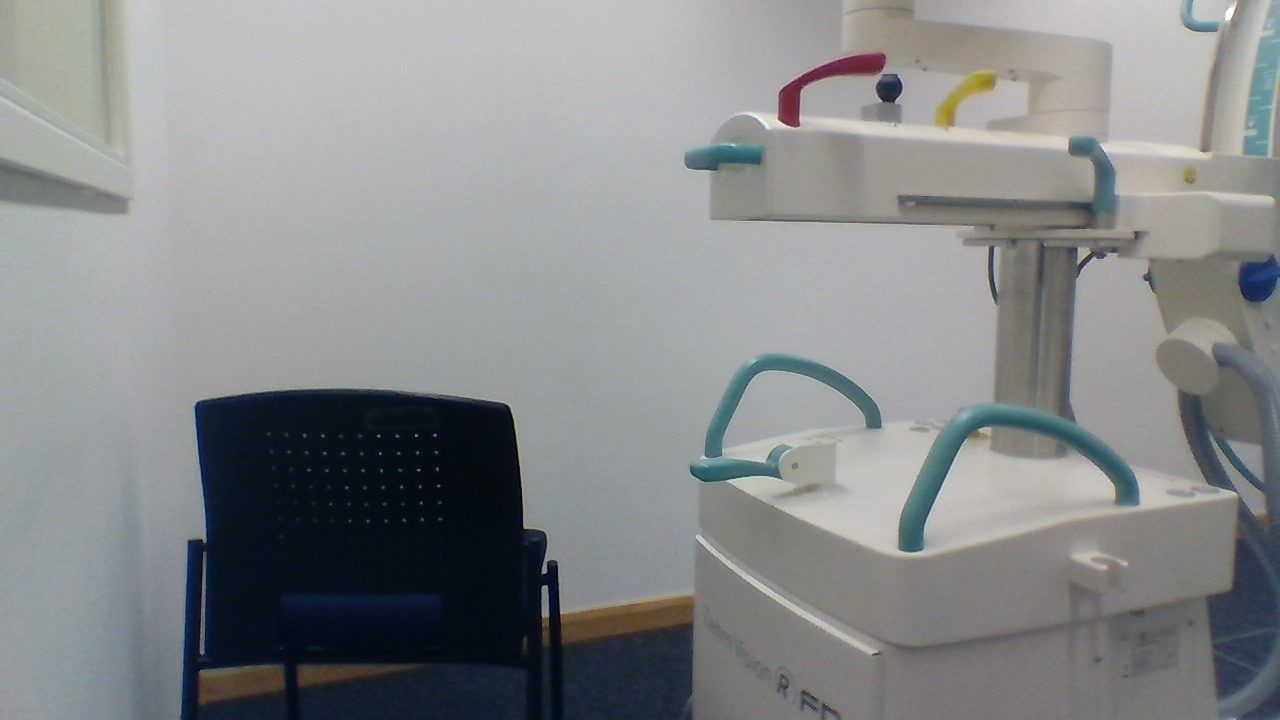carmBACK: (684, 435, 839, 491)
carmLOCK: (1234, 251, 1279, 305)
